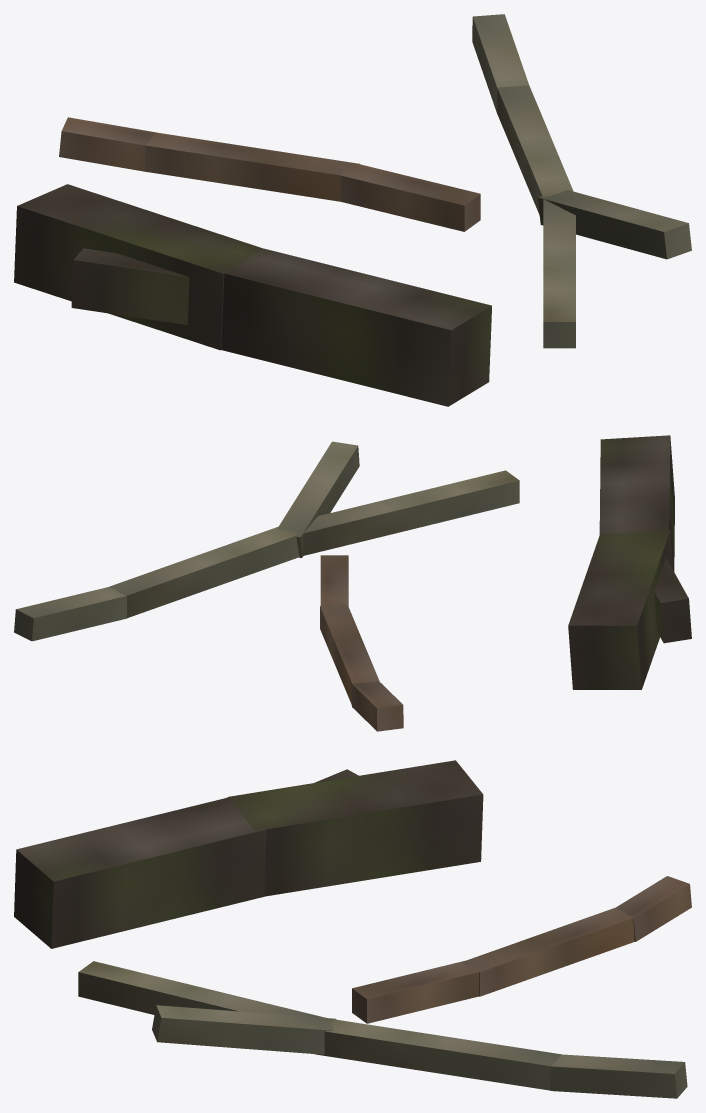
Rendered from floortwig_5.obj.
The picture shows the model from 3 angles, top to bottom: view 1: azimuth 30°, elevation 25°; view 2: azimuth 150°, elevation 25°; view 3: azimuth 270°, elevation 25°; orthographic projection. The views are drawn at different scales.
Visible parts, largest first — view 1: cube; view 2: cube; view 3: cube.
Part boxes in pixels (left/top/right/bottom): cube: left=14, top=14, right=691, bottom=406; cube: left=14, top=435, right=691, bottom=731; cube: left=14, top=760, right=691, bottom=1098.
Bounding box in the file's own units: 1.22 × 0.1583 × 1.26.
